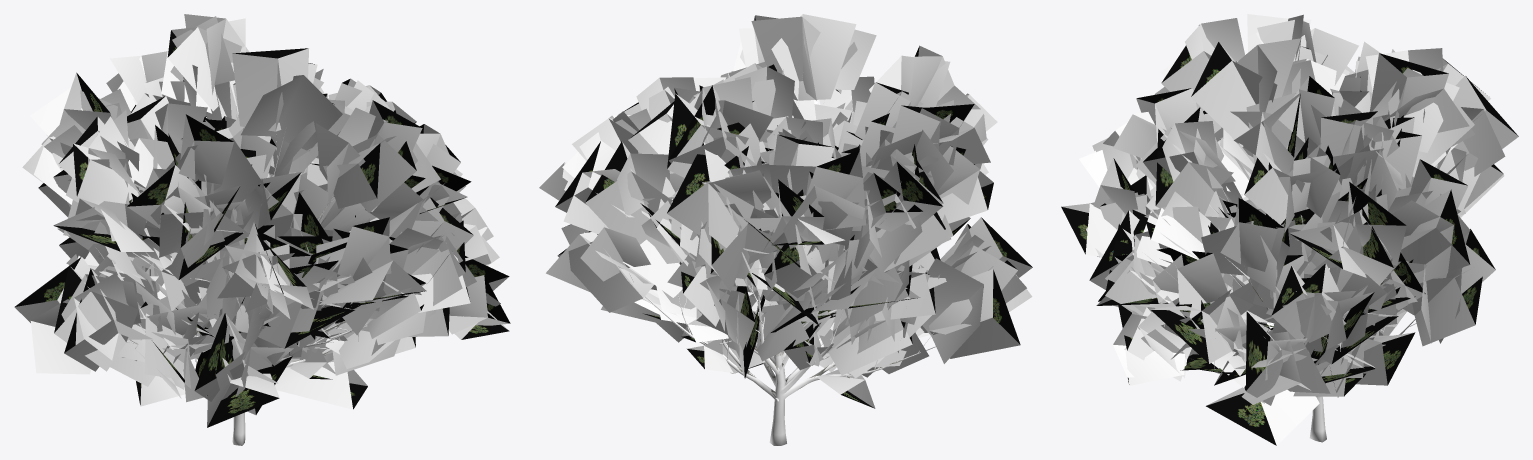
File: defaultbeechamerican.glb
3 views of the same model, side by side, from view 1: azimuth 30°, elevation 25°; view 2: azimuth 150°, elevation 25°; view 3: azimuth 270°, elevation 25° (orthographic).
Visible parts, largest first — view 1: DefaultBeechAmerican; view 2: DefaultBeechAmerican; view 3: DefaultBeechAmerican.
Boxes of the visible parts, x1,y1,x2,y2 form: DefaultBeechAmerican: (14, 14, 510, 445); DefaultBeechAmerican: (539, 14, 1032, 445); DefaultBeechAmerican: (1061, 14, 1518, 445).
Bounding box in the file's own units: 19 × 16.28 × 16.98.
4 materials, 3 textured.
